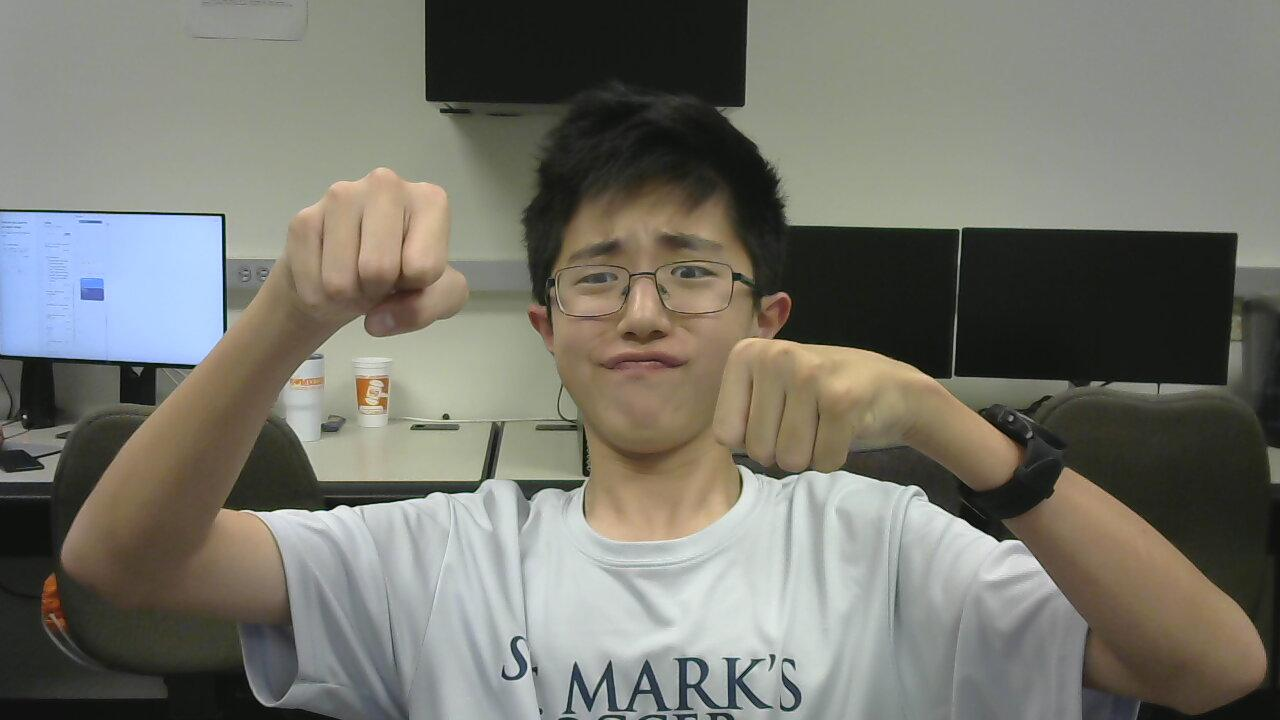fist: (266, 119, 509, 365), (691, 324, 949, 496)
